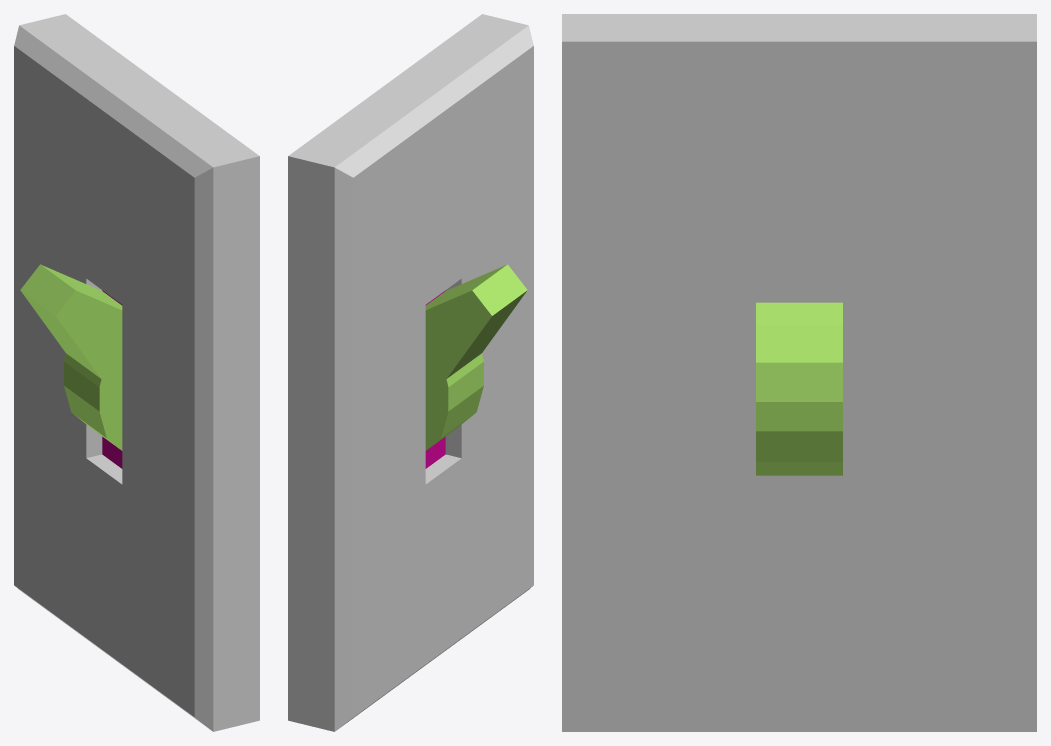
The model's file is Switch.fbx.
3 renders of one model, left to right at view 1: azimuth 30°, elevation 25°; view 2: azimuth 150°, elevation 25°; view 3: azimuth 270°, elevation 25°, orthographic. The views are drawn at different scales.
Parts seen in each view (by area): view 1: Switch; view 2: Switch; view 3: Switch.
Part boxes in pixels (x1=…): Switch: x1=14, y1=14, x2=259, y2=731; Switch: x1=288, y1=14, x2=533, y2=731; Switch: x1=562, y1=14, x2=1036, y2=731.
Size of the model in its own units: 2.95 by 9.05 by 5.64.
